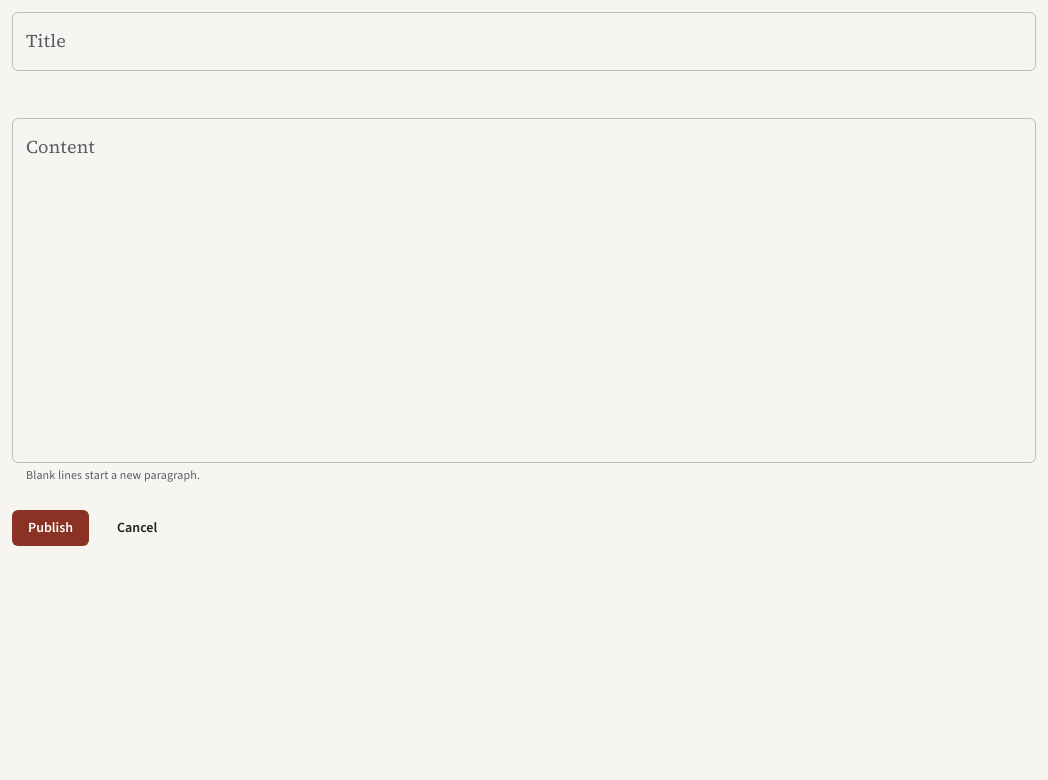
<PostForm /> › shows the message the API sent when saving fails
Type "A title" into the field labelled "Title" at (524, 41), box [12,12,1036,71]
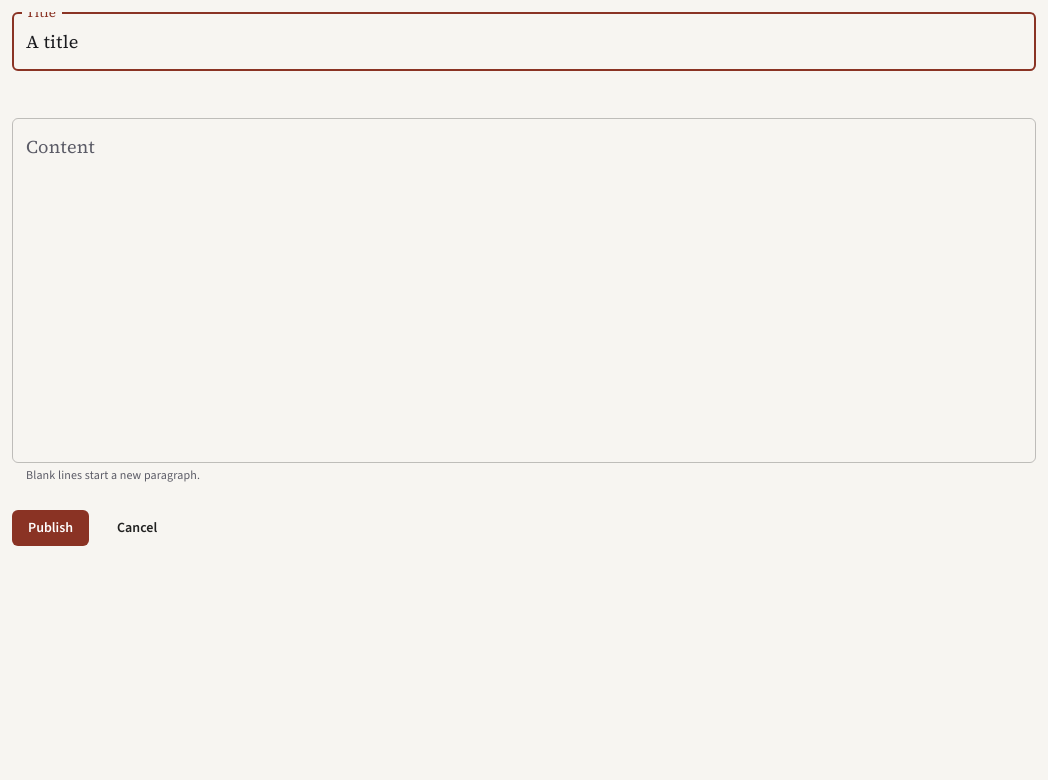
Type "A body long enough to pass." into the text box labelled "Content" at (524, 290), box [26,134,1022,446]
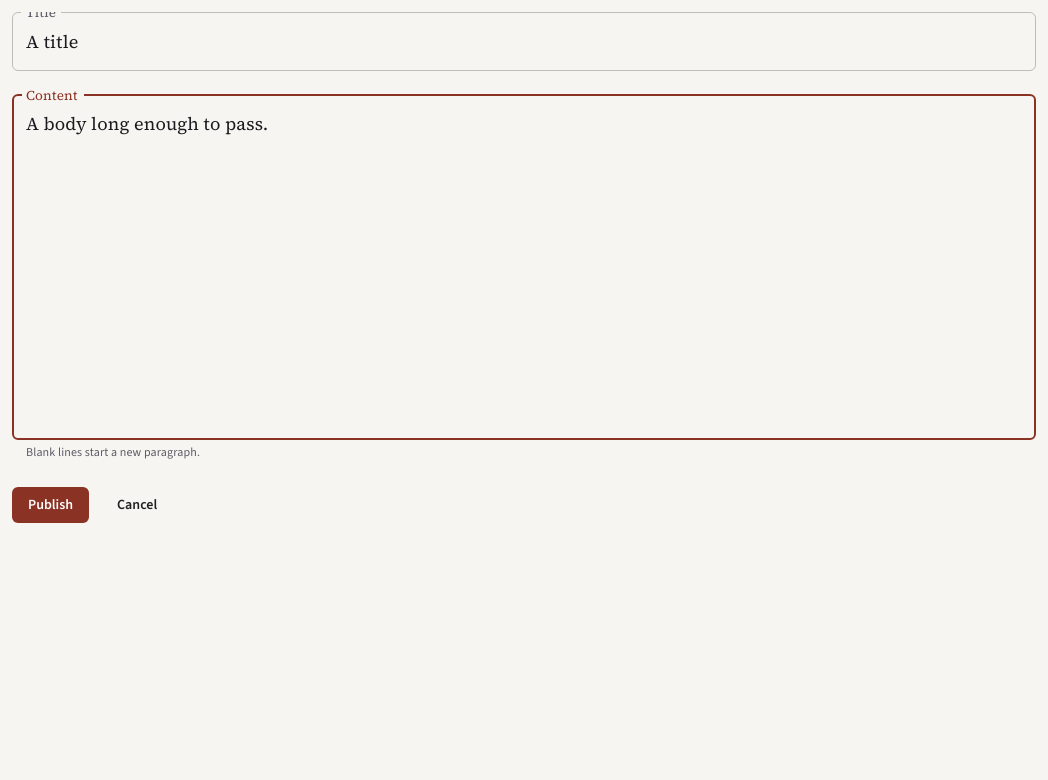
Click the button "Publish" at (51, 505), box [12,487,89,523]
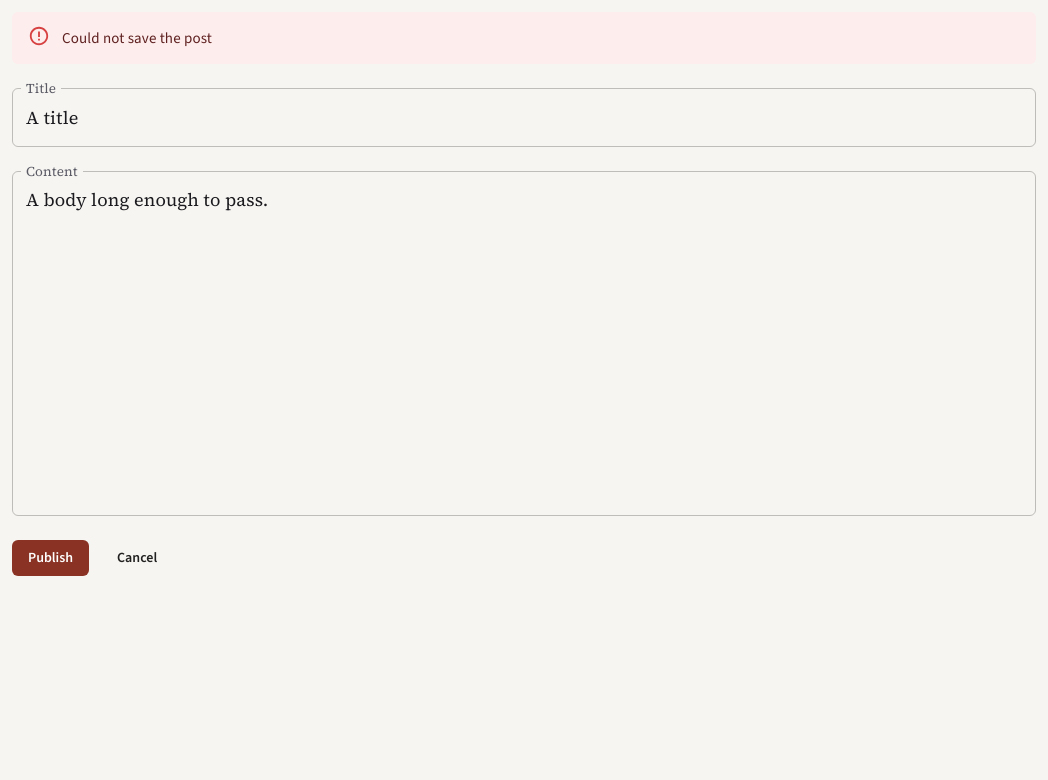
expect the text "Could not save the post" is shown: met, box [62,28,212,48]
